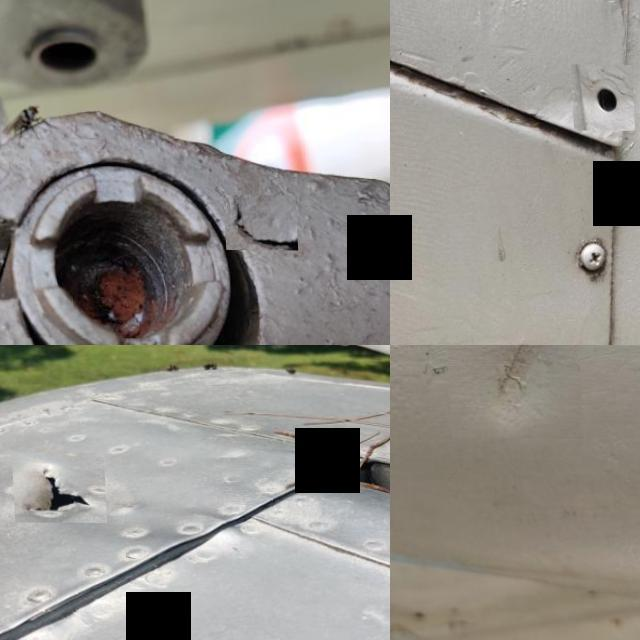Crack: (9, 452, 104, 523), (220, 194, 294, 250)
Dent: (441, 345, 579, 438)
Missing_Fastener: (568, 64, 631, 130)
